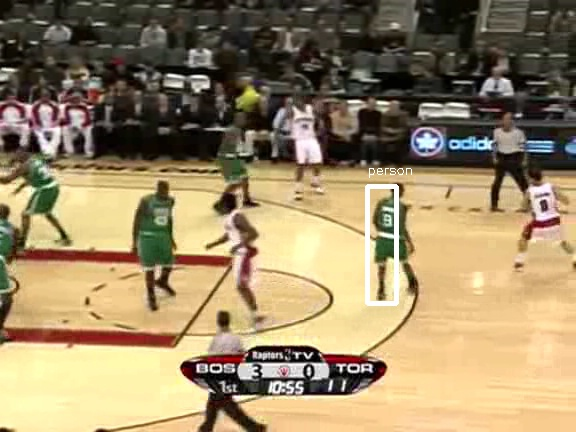person: (374, 191, 408, 272), (373, 191, 407, 272), (375, 191, 409, 272), (374, 190, 408, 271), (374, 192, 408, 273)
target_negative: (289, 198, 534, 302), (422, 164, 480, 351), (299, 358, 445, 407), (548, 303, 573, 423), (320, 355, 429, 374)
